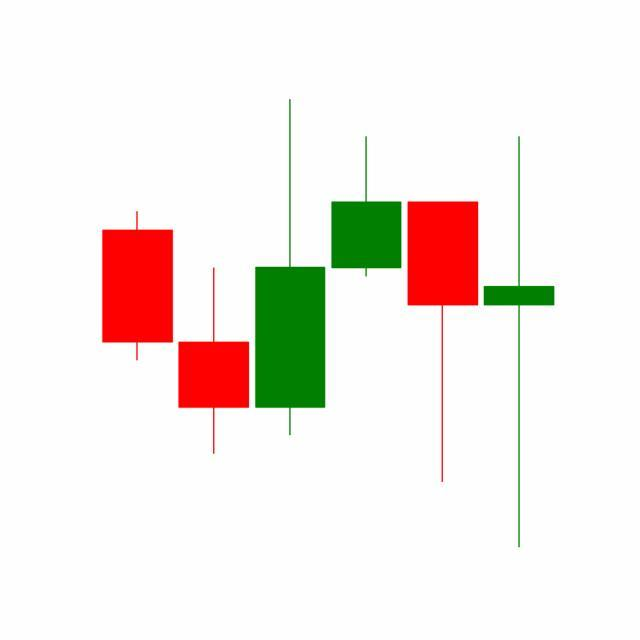Hammer: (404, 200, 482, 486)
